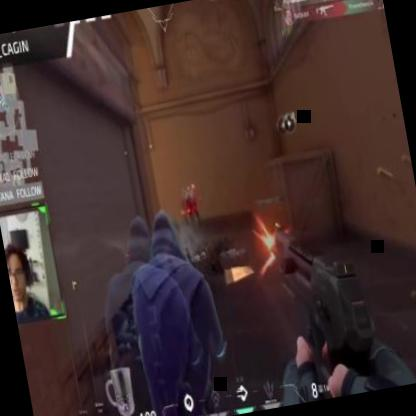enemy: (178, 182, 203, 232)
enemy_head: (186, 185, 192, 195)
